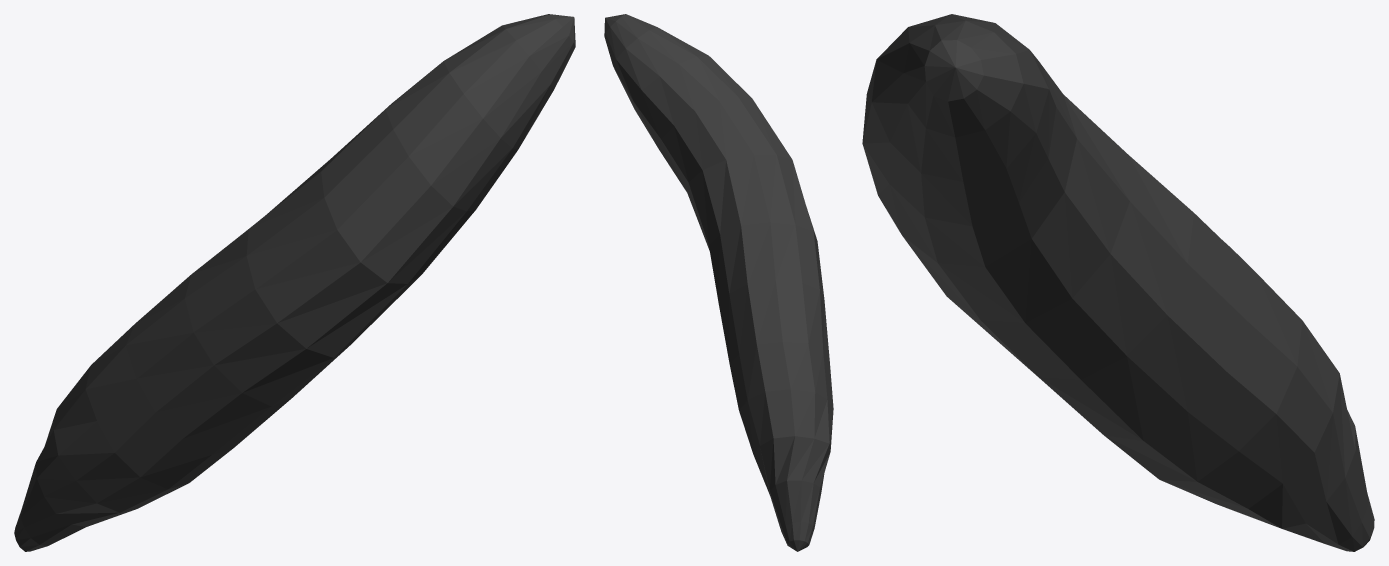
Rendered from TibialisCaudalis.glb.
3 views of the same model, side by side, from view 1: azimuth 30°, elevation 25°; view 2: azimuth 150°, elevation 25°; view 3: azimuth 270°, elevation 25° (orthographic). The views are drawn at different scales.
Parts seen in each view (by area): view 1: TibialisCaudalis; view 2: TibialisCaudalis; view 3: TibialisCaudalis.
Boxes of the visible parts, <box> form: TibialisCaudalis: <box>14,14,575,551</box>; TibialisCaudalis: <box>604,14,833,551</box>; TibialisCaudalis: <box>862,14,1374,551</box>.
Bounding box in the file's own units: 0.9053 × 1.12 × 0.6707.
Materials: 1 (1 with a texture image).
